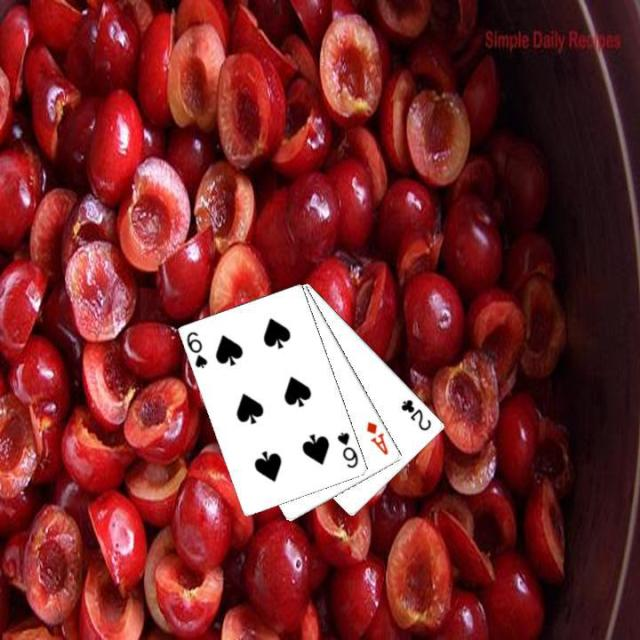2C: (397, 395, 434, 433)
6S: (333, 428, 360, 471), (183, 328, 210, 370)
AD: (363, 418, 390, 457)
